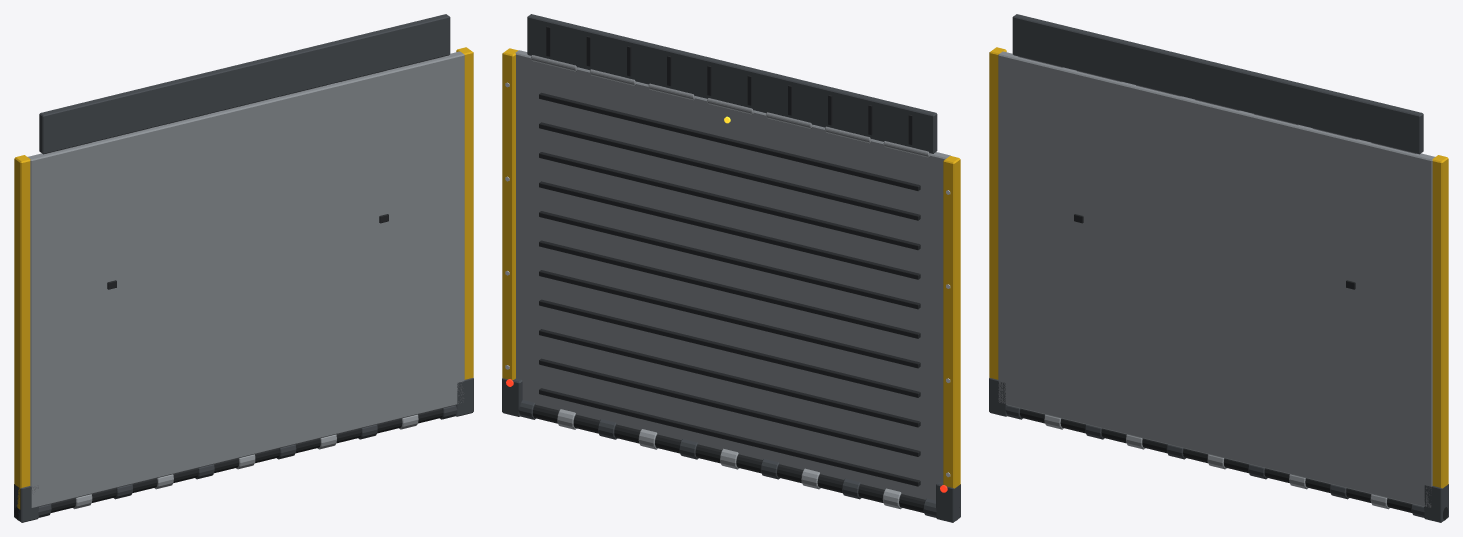
File: tail_ramp.glb
3 renders of one model, left to right at view 1: azimuth 30°, elevation 25°; view 2: azimuth 150°, elevation 25°; view 3: azimuth 330°, elevation 25°, orthographic.
Visible parts, largest first — view 1: ramp, toe, base; view 2: ramp, toe, base; view 3: ramp, toe, base.
Part boxes in pixels (x1,y1,x2,y2): ramp: (14, 47, 473, 509); toe: (39, 14, 450, 154); base: (14, 378, 473, 522); ramp: (502, 48, 960, 509); toe: (527, 14, 937, 157); base: (502, 378, 960, 522); ramp: (989, 47, 1448, 509); toe: (1012, 14, 1423, 154); base: (989, 378, 1448, 522).
Size of the model in its own units: 4 by 3.4 by 0.15.
